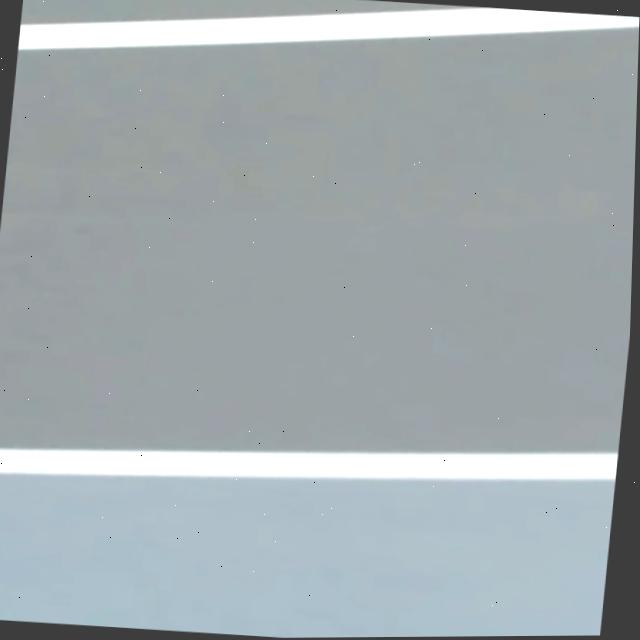left: (17, 7, 639, 50), (0, 448, 618, 480)
